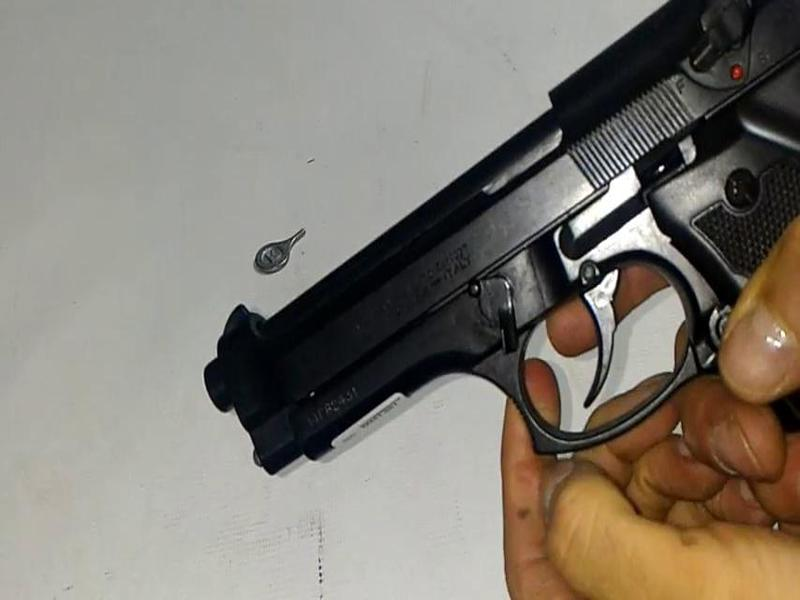Pistola: (175, 8, 800, 395)
